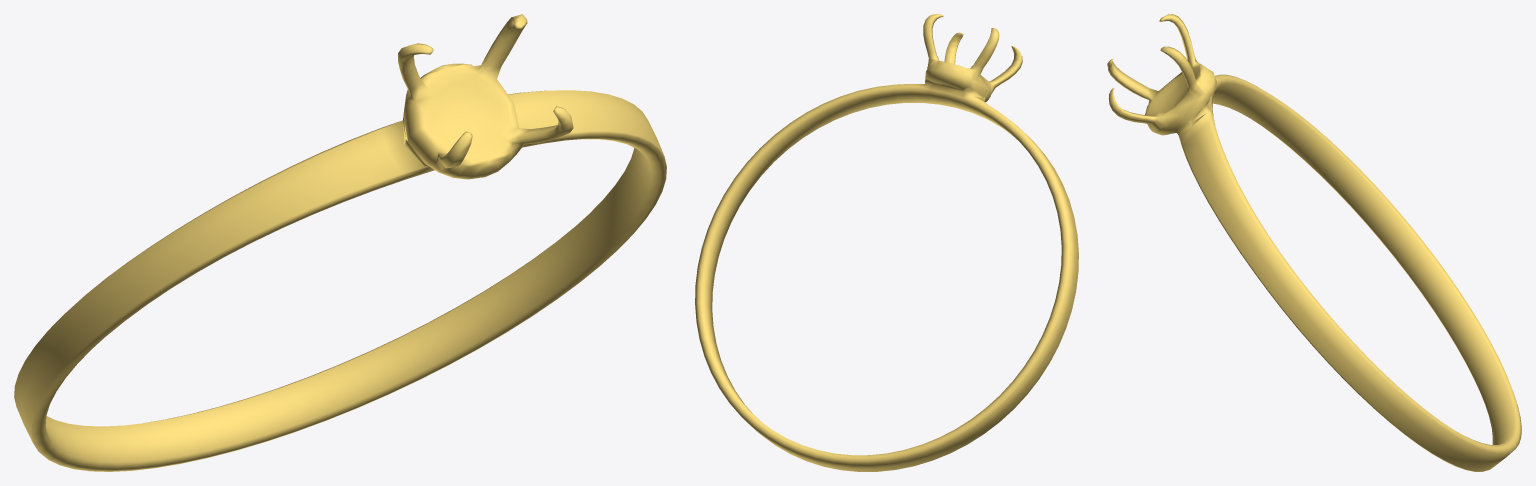
File: ring2.glb
3 views of the same model, side by side, from view 1: azimuth 30°, elevation 25°; view 2: azimuth 150°, elevation 25°; view 3: azimuth 270°, elevation 25° (orthographic). The views are drawn at different scales.
Parts seen in each view (by area): view 1: Cylinder; view 2: Cylinder; view 3: Cylinder.
Part boxes in pixels (left/top/right/bottom): Cylinder: left=14, top=14, right=666, bottom=471; Cylinder: left=695, top=14, right=1078, bottom=471; Cylinder: left=1107, top=14, right=1521, bottom=471.
Size of the model in its own units: 0.538 by 0.5102 by 0.4638.
